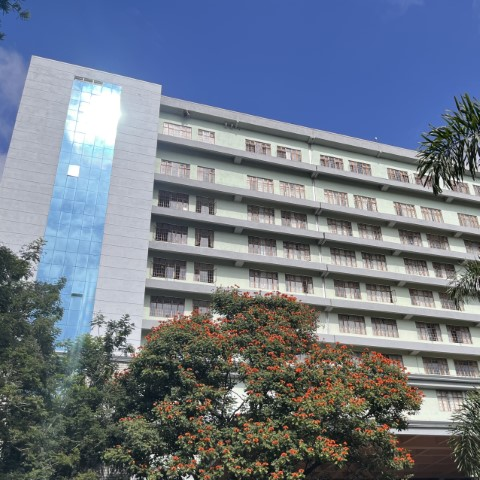Central Block: (9, 51, 480, 414)
